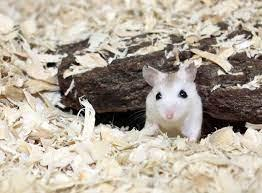rat: (142, 60, 202, 142)
